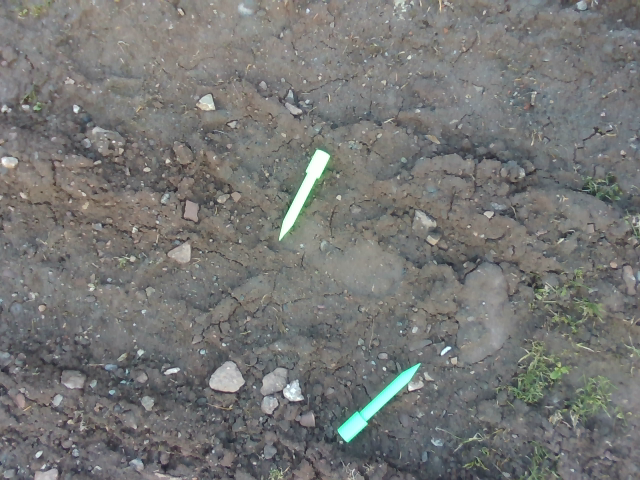Probe: (335, 356, 424, 448), (274, 145, 334, 244)
